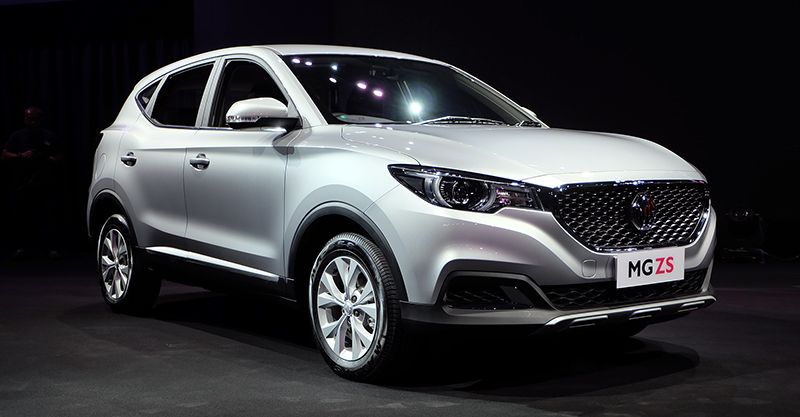pickup: (84, 42, 720, 381)
